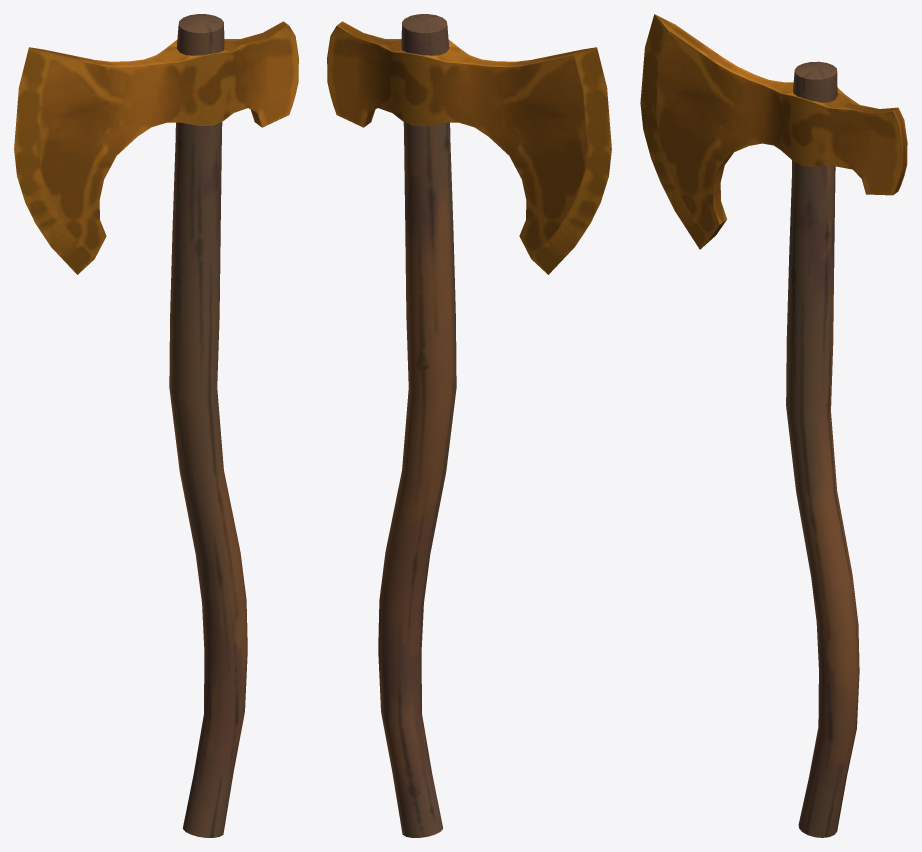
The model's file is Axe_Bronze.gltf.
The picture shows the model from 3 angles, left to right: view 1: azimuth 30°, elevation 25°; view 2: azimuth 150°, elevation 25°; view 3: azimuth 330°, elevation 25°; orthographic projection. The views are drawn at different scales.
Visible parts, largest first — view 1: Axe_Bronze; view 2: Axe_Bronze; view 3: Axe_Bronze.
Part boxes in pixels (left/top/right/bottom): Axe_Bronze: left=14, top=14, right=298, bottom=837; Axe_Bronze: left=327, top=14, right=611, bottom=837; Axe_Bronze: left=640, top=14, right=907, bottom=837.
Size of the model in its own units: 0.2945 by 0.8269 by 0.046.
Materials: 1 (1 with a texture image).
